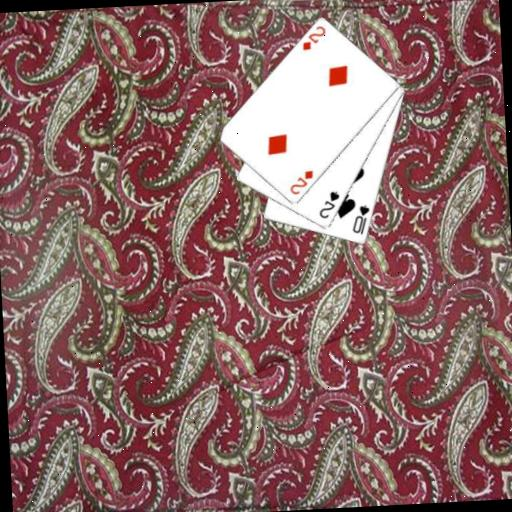10S: (349, 202, 373, 237)
2D: (286, 168, 316, 197), (298, 23, 328, 52)
2S: (316, 188, 343, 221)
